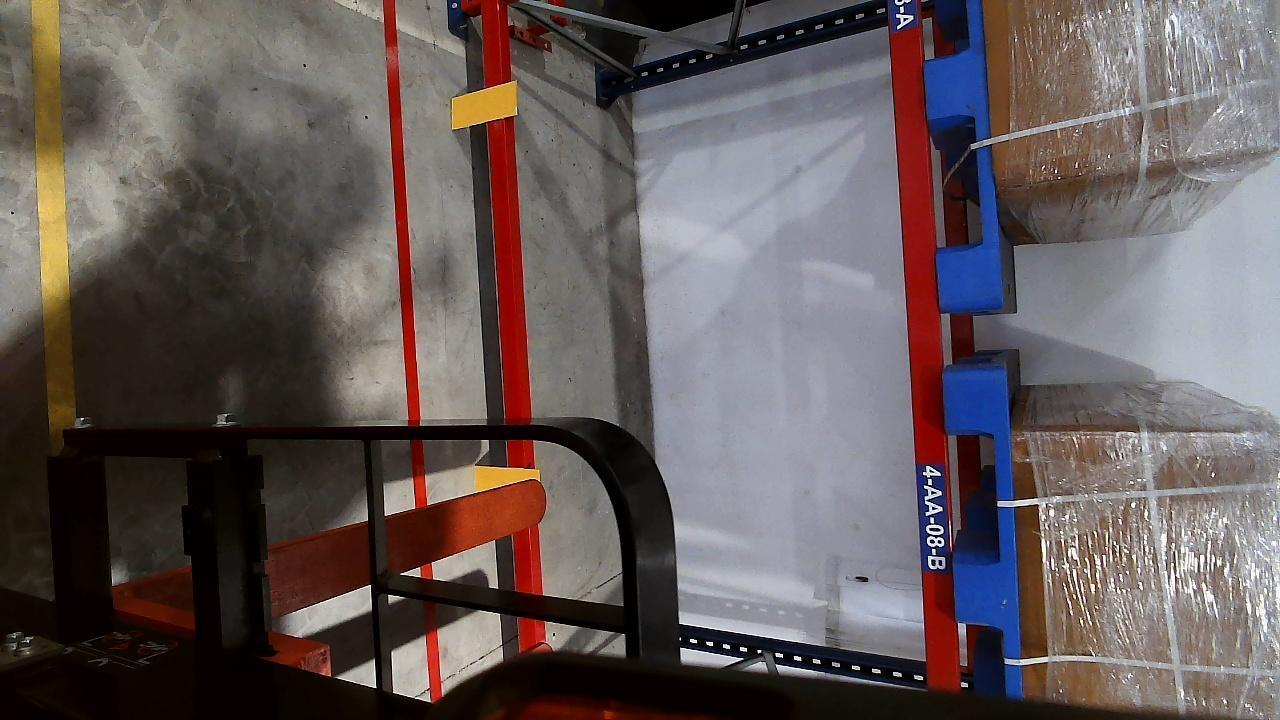red_line: (380, 0, 449, 699)
yellow_line: (30, 0, 75, 432)
